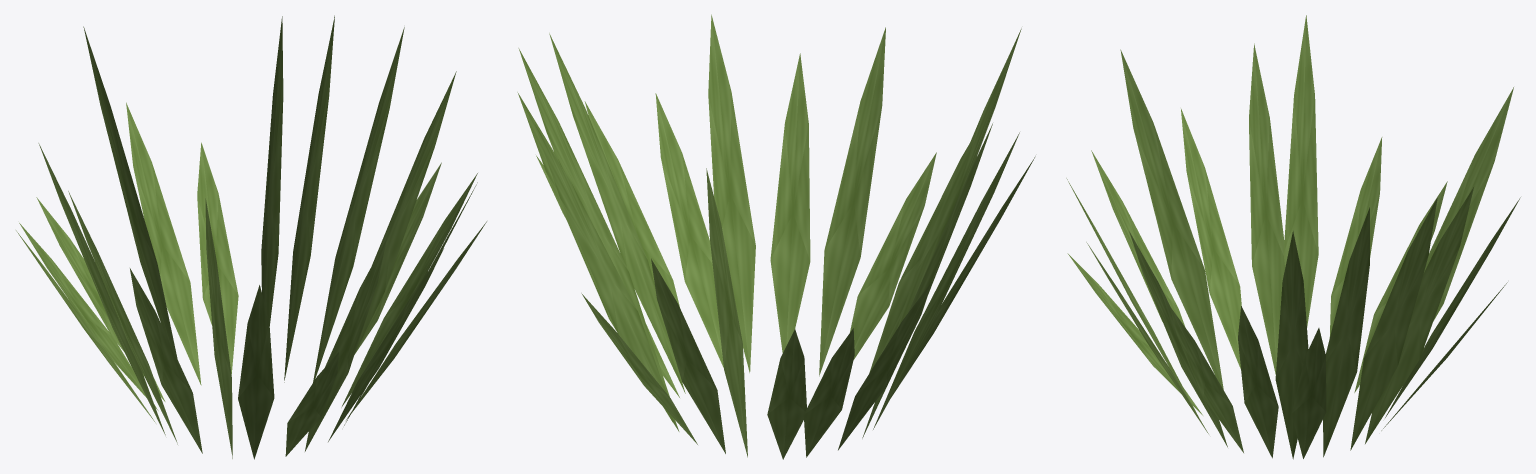
Rendered from drygrass_tuft.glb.
3 renders of one model, left to right at view 1: azimuth 30°, elevation 25°; view 2: azimuth 150°, elevation 25°; view 3: azimuth 270°, elevation 25°, orthographic. The views are drawn at different scales.
Visible parts, largest first — view 1: drygrass_tuft; view 2: drygrass_tuft; view 3: drygrass_tuft.
Part boxes in pixels (bbox=[...]): drygrass_tuft: bbox=[16, 15, 486, 459]; drygrass_tuft: bbox=[517, 14, 1035, 459]; drygrass_tuft: bbox=[1066, 15, 1520, 459].
Size of the model in its own units: 0.8593 by 0.6458 by 0.8583.
1 material, 1 textured.
